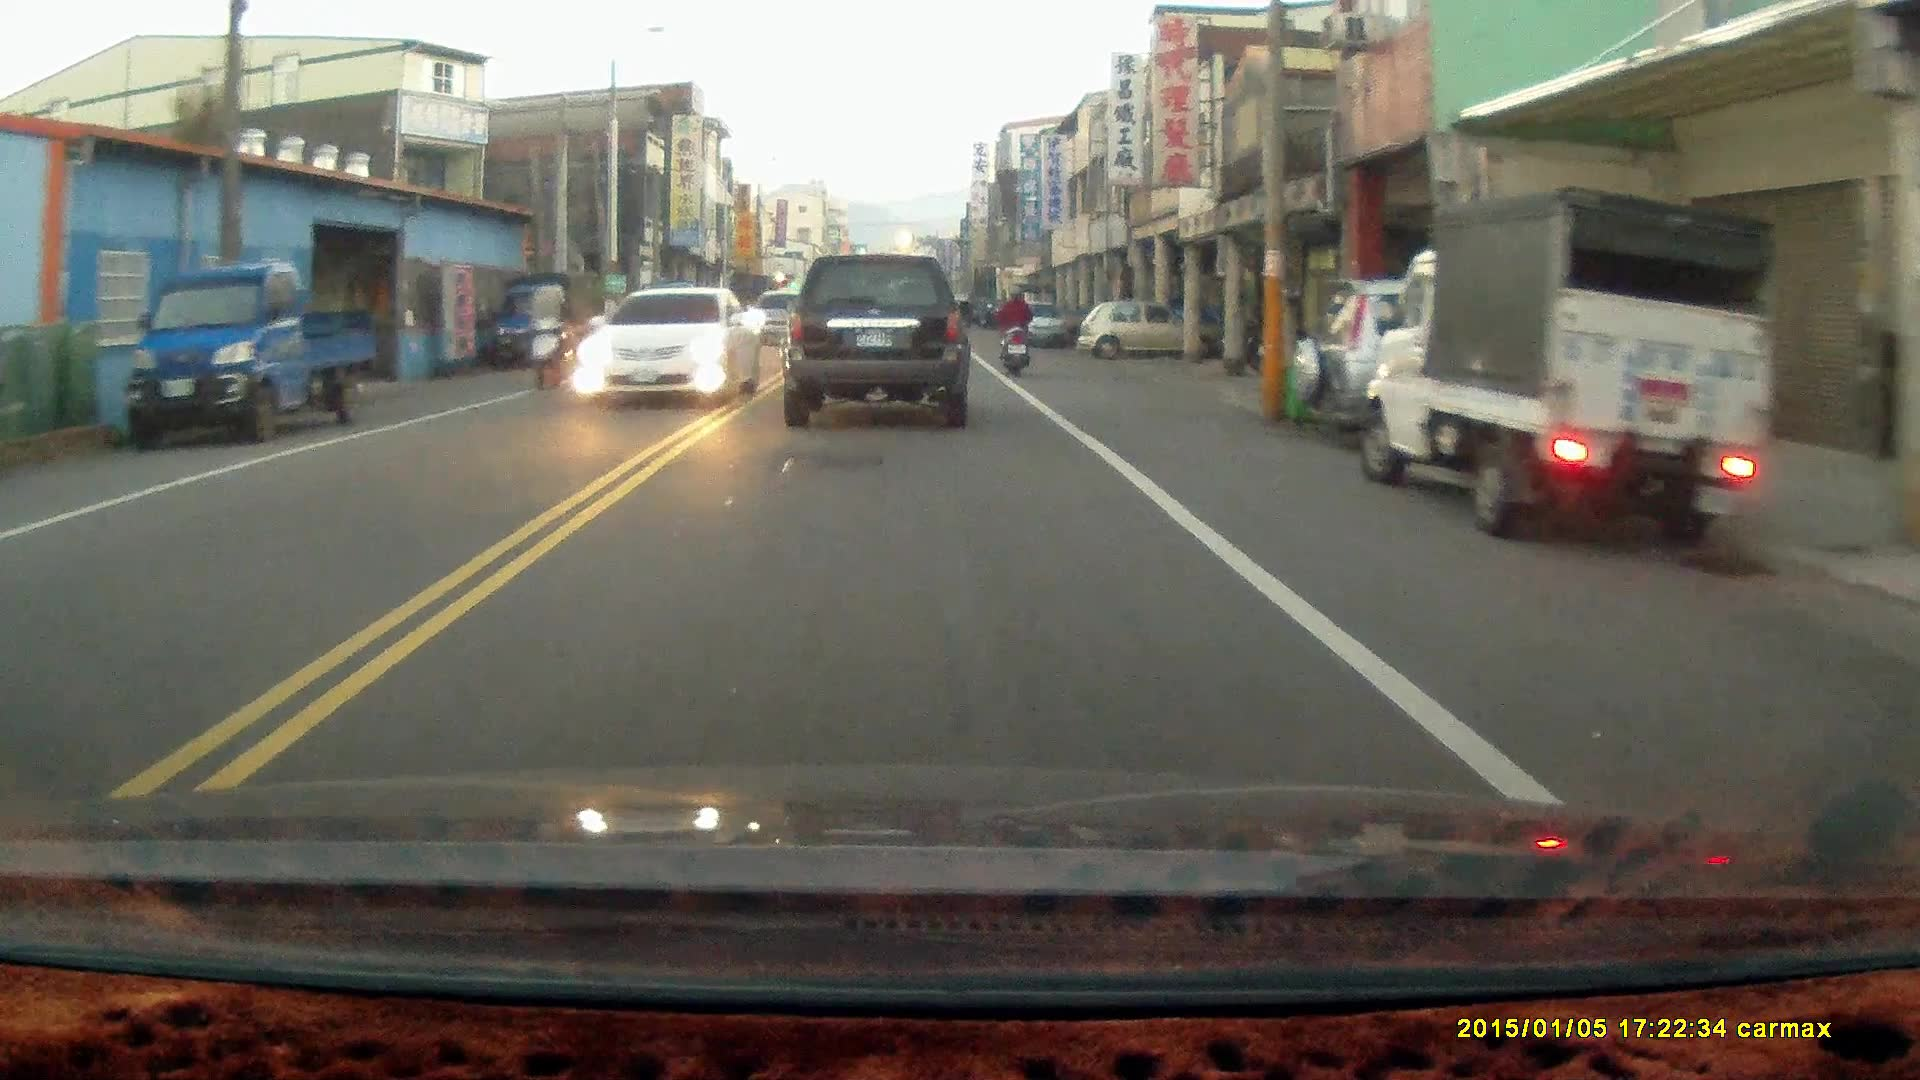rider: (522, 284, 577, 389), (995, 278, 1032, 373)
vehicle: (1364, 180, 1778, 561), (1291, 277, 1684, 441), (111, 264, 383, 447), (780, 250, 976, 428), (571, 286, 768, 406), (484, 272, 608, 372), (1079, 298, 1184, 357)
